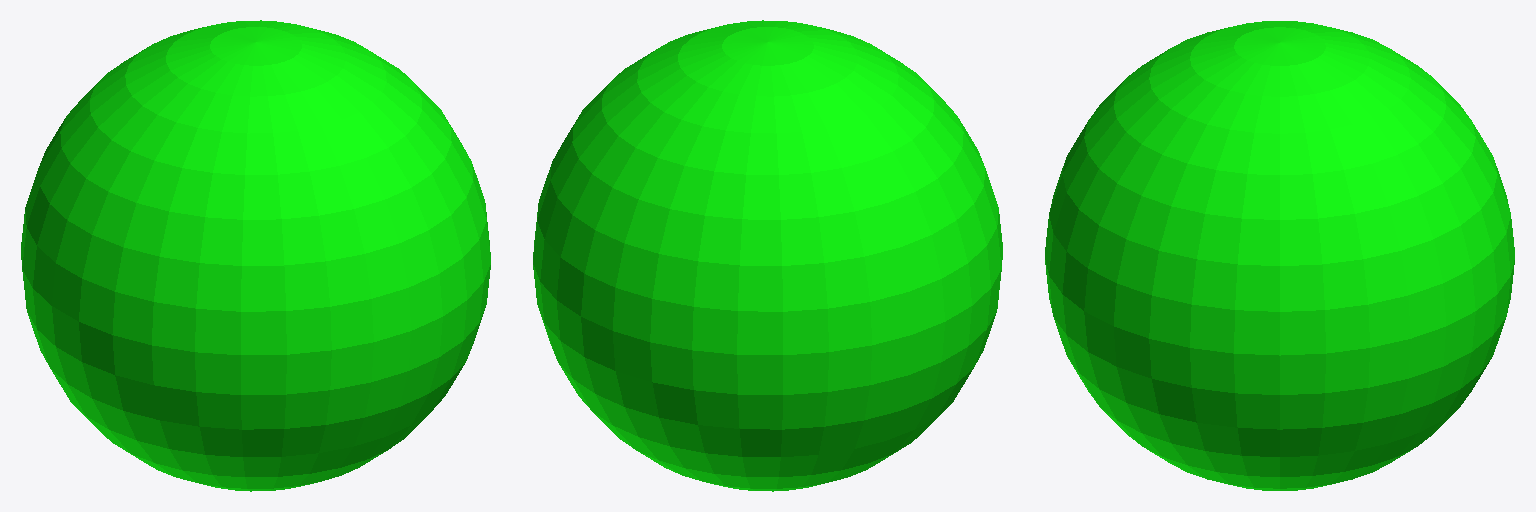
robot.urdf — target:
<?xml version="1.0"?>

<robot name="target">
  <link name="target">    
    <visual>
      <geometry>
        <sphere radius="0.025" />
      </geometry>
      <material name="green">
        <color rgba="0.1 1.0 0.1 0.5"/>
      </material>
    </visual>  
  </link>
</robot>

--- Render facts (derived) ---
3 views of the same robot in one strip: view 1: azimuth 30°, elevation 25°; view 2: azimuth 150°, elevation 25°; view 3: azimuth 270°, elevation 25° (orthographic).
Robot: target — 1 links, 0 joints (none); root link target; default pose: all joints at 0.
Links seen in each view (by area): view 1: target; view 2: target; view 3: target.
Boxes of the visible links, x1,y1,x2,y2 form: target: (21, 20, 490, 491); target: (533, 20, 1002, 491); target: (1045, 21, 1514, 490).
Bounding box of the posed robot: 0.05 × 0.05 × 0.05 m (x, y, z).
Geometry: primitives only (box / cylinder / sphere), no mesh files.